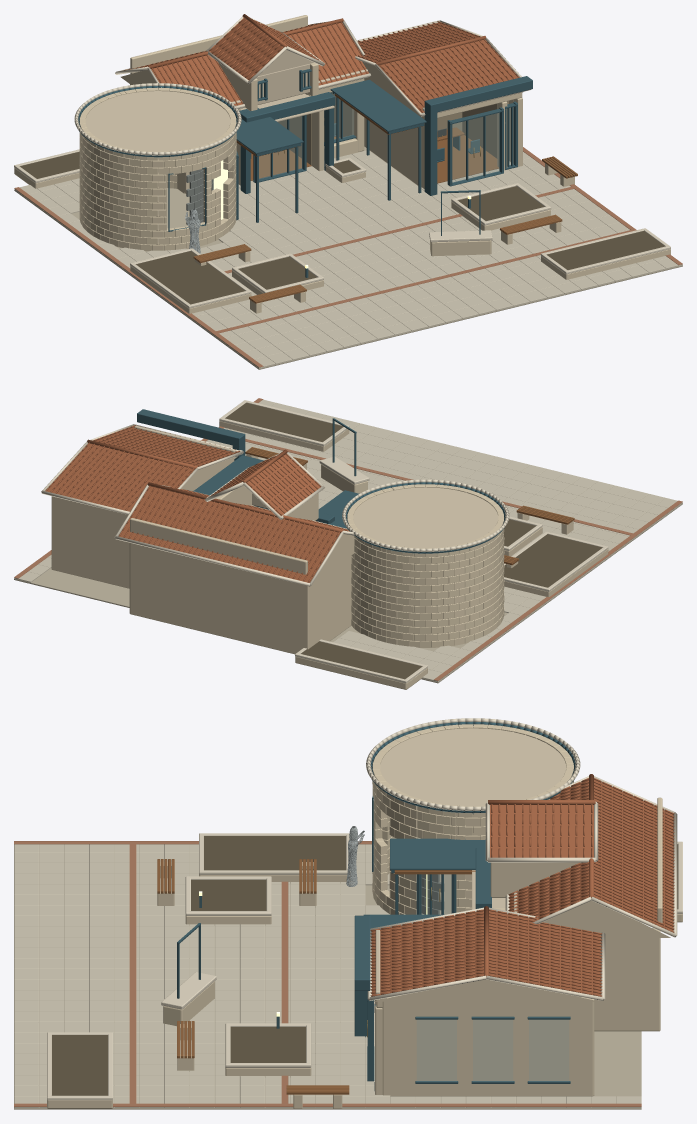
File: ecc-exterior-v5-compressed.glb
3 views of the same model, one above another, from view 1: azimuth 30°, elevation 25°; view 2: azimuth 150°, elevation 25°; view 3: azimuth 270°, elevation 25° (orthographic). The views are drawn at different scales.
Bounding box in the file's own units: 19.06 × 5.92 × 20.25.
